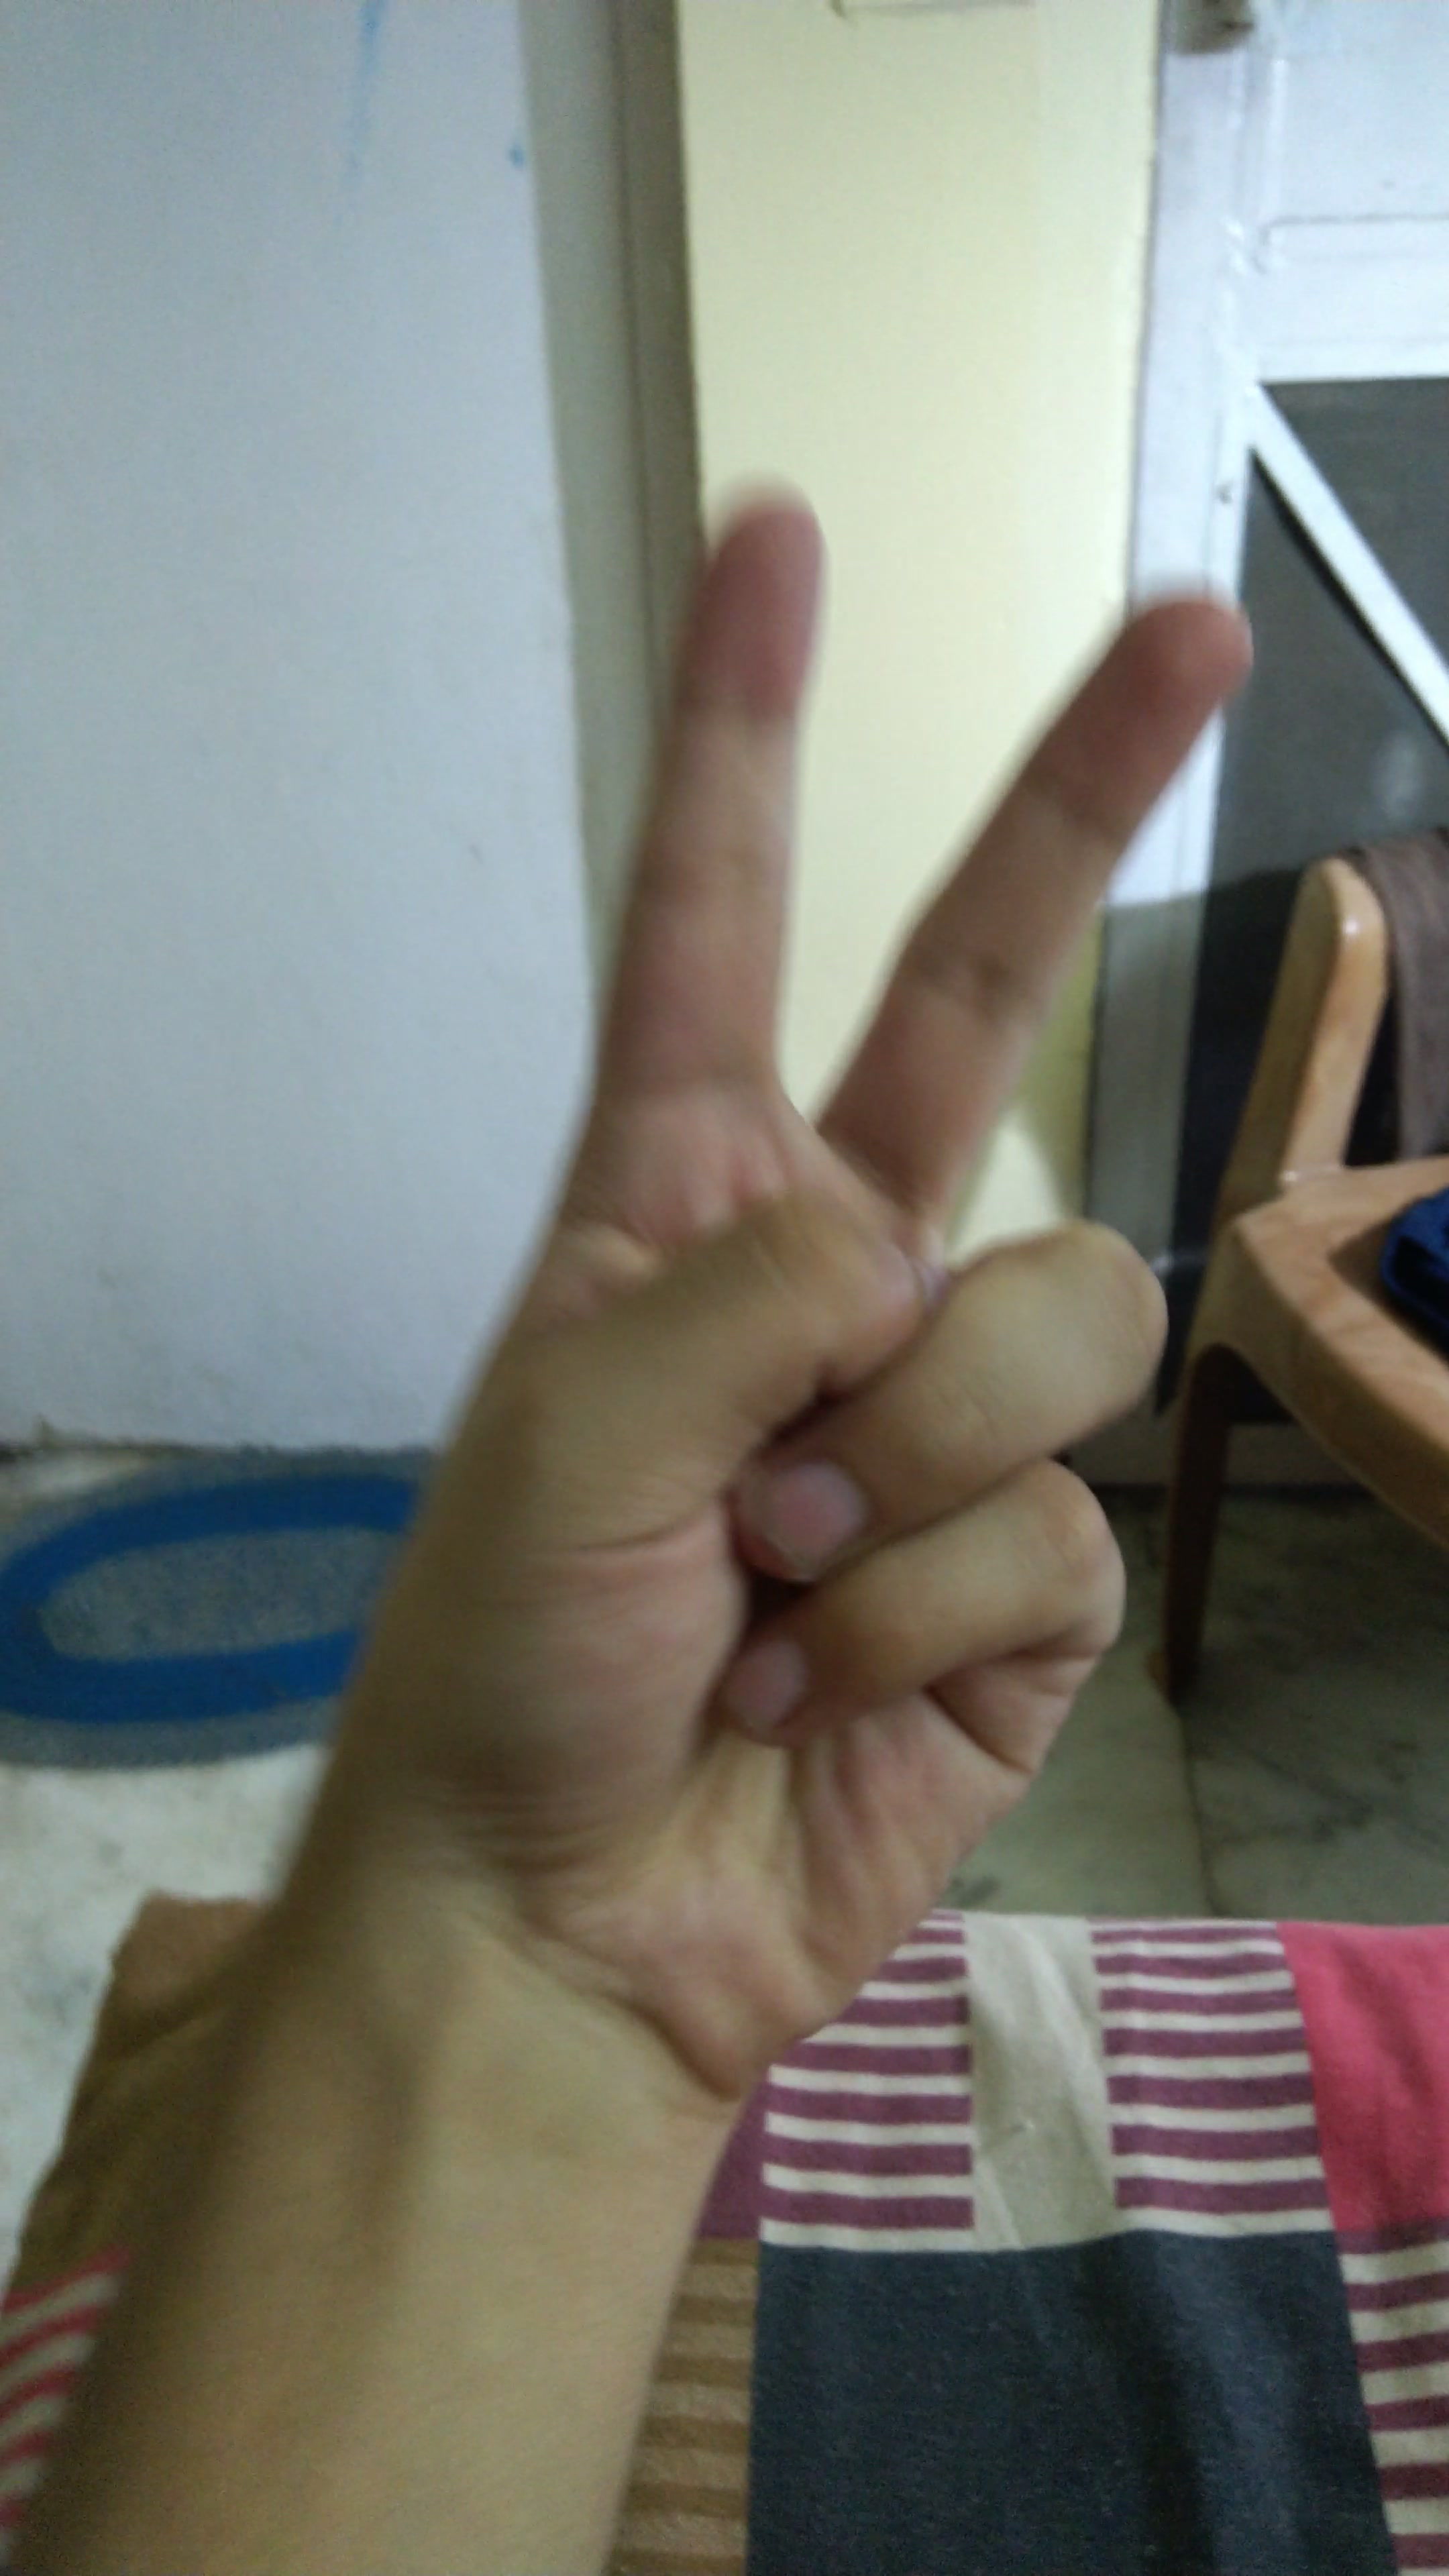hand: (219, 437, 1265, 2132)
